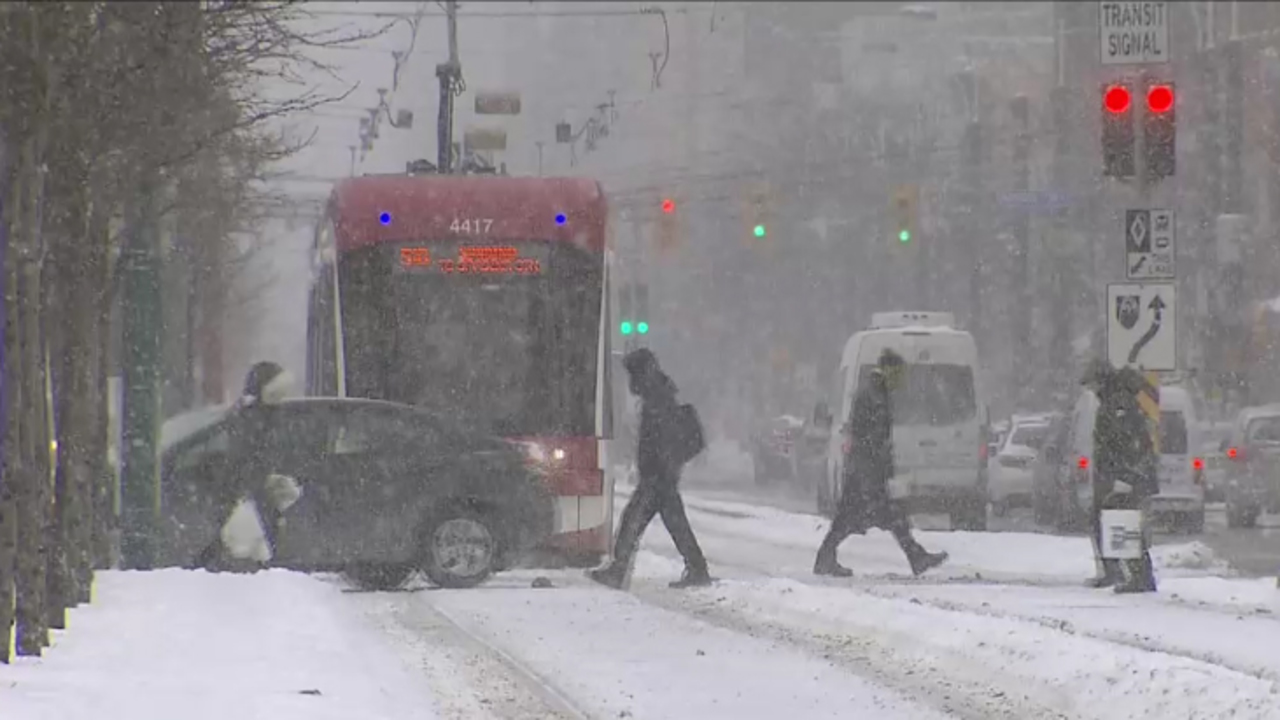car: (157, 377, 568, 590), (840, 325, 988, 533), (1065, 374, 1204, 525), (1224, 401, 1275, 528), (995, 409, 1043, 513), (744, 408, 796, 483), (796, 414, 829, 504)
person: (813, 346, 948, 579), (592, 346, 720, 591), (1079, 357, 1163, 591), (214, 353, 298, 564)
train: (299, 183, 617, 563)
